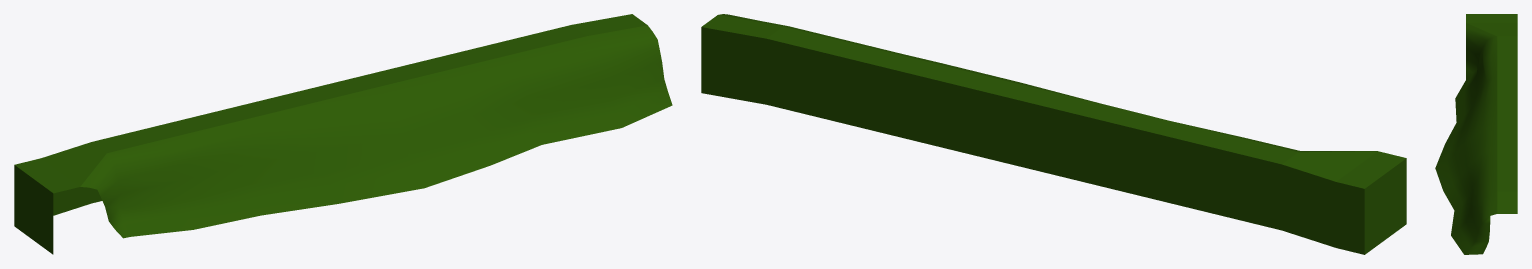
The model's file is MapLimits.fbx.
The picture shows the model from 3 angles, left to right: view 1: azimuth 30°, elevation 25°; view 2: azimuth 150°, elevation 25°; view 3: azimuth 270°, elevation 25°; orthographic projection. The views are drawn at different scales.
Visible parts, largest first — view 1: pCube5; view 2: pCube5; view 3: pCube5.
Part boxes in pixels (x1,y1,x2,y2): pCube5: [14, 14, 672, 254]; pCube5: [701, 14, 1406, 254]; pCube5: [1435, 14, 1517, 254].
Size of the model in its own units: 10703 by 1157 by 1866.
